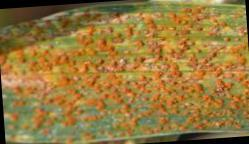Wheat: (2, 32, 249, 108), (139, 7, 249, 30)
